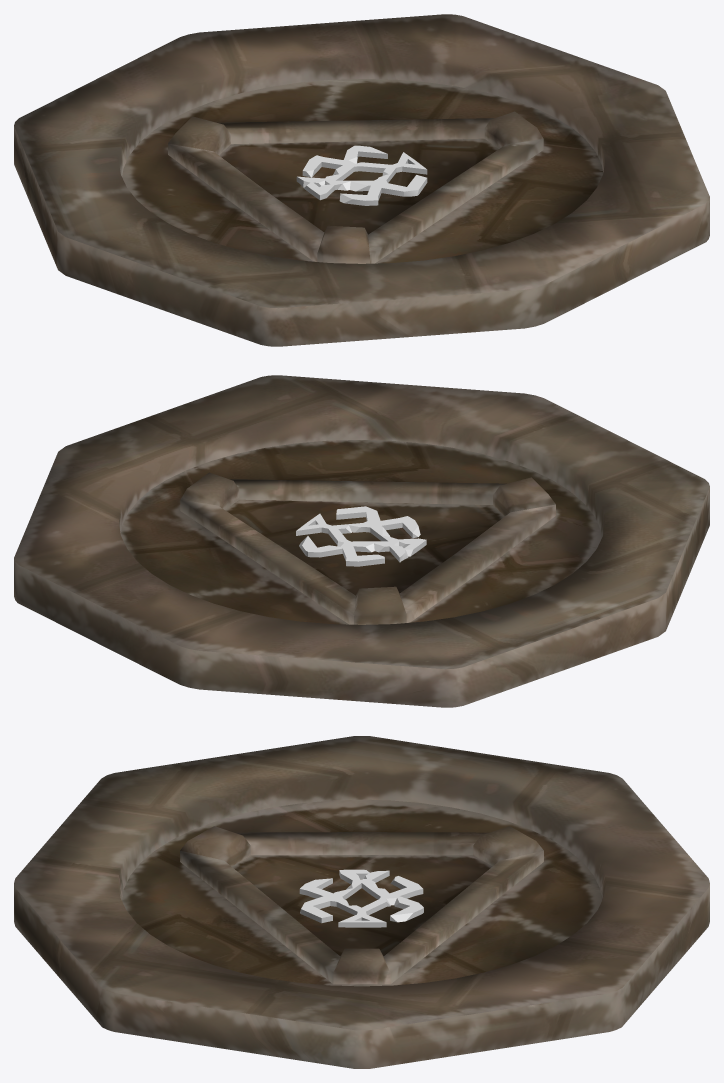
Rendered from gravedad.fbx.
3 views of the same model, one above another, from view 1: azimuth 30°, elevation 25°; view 2: azimuth 150°, elevation 25°; view 3: azimuth 270°, elevation 25° (orthographic).
Parts seen in each view (by area): view 1: gravedad low.001, runa jefe.002; view 2: gravedad low.001, runa jefe.002; view 3: gravedad low.001, runa jefe.002.
Part boxes in pixels (<box>): gravedad low.001: <box>14,14,709,346</box>; runa jefe.002: <box>296,145,427,205</box>; gravedad low.001: <box>14,375,709,707</box>; runa jefe.002: <box>296,506,426,566</box>; gravedad low.001: <box>14,736,709,1068</box>; runa jefe.002: <box>299,869,423,927</box>.
Size of the model in its own units: 36.67 by 2.35 by 36.67.
Materials: 1 (1 with a texture image).
